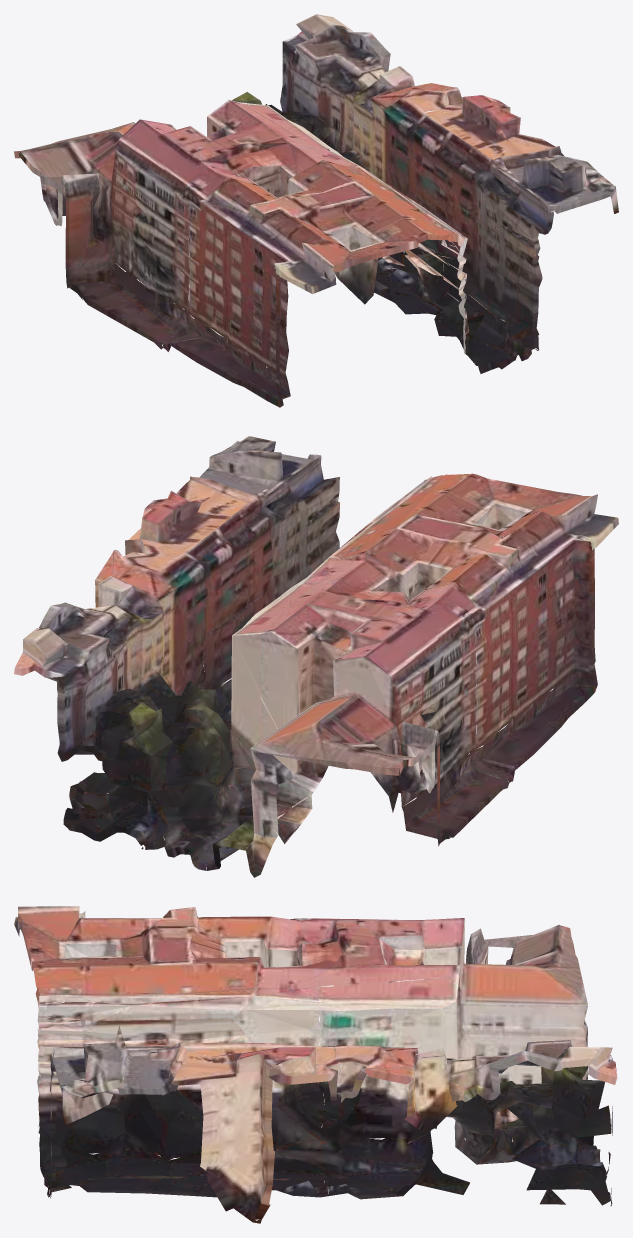
3 renders of one model, top to bottom at view 1: azimuth 30°, elevation 25°; view 2: azimuth 150°, elevation 25°; view 3: azimuth 270°, elevation 25°, orthographic. The views are drawn at different scales.
Parts seen in each view (by area): view 1: Mesh_0; view 2: Mesh_0; view 3: Mesh_0.
Boxes of the visible parts, bbox=[...] form: Mesh_0: bbox=[14, 14, 618, 407]; Mesh_0: bbox=[14, 436, 618, 877]; Mesh_0: bbox=[14, 906, 617, 1223].
Size of the model in its own units: 66.56 by 31.94 by 82.66.
1 material, 1 textured.
